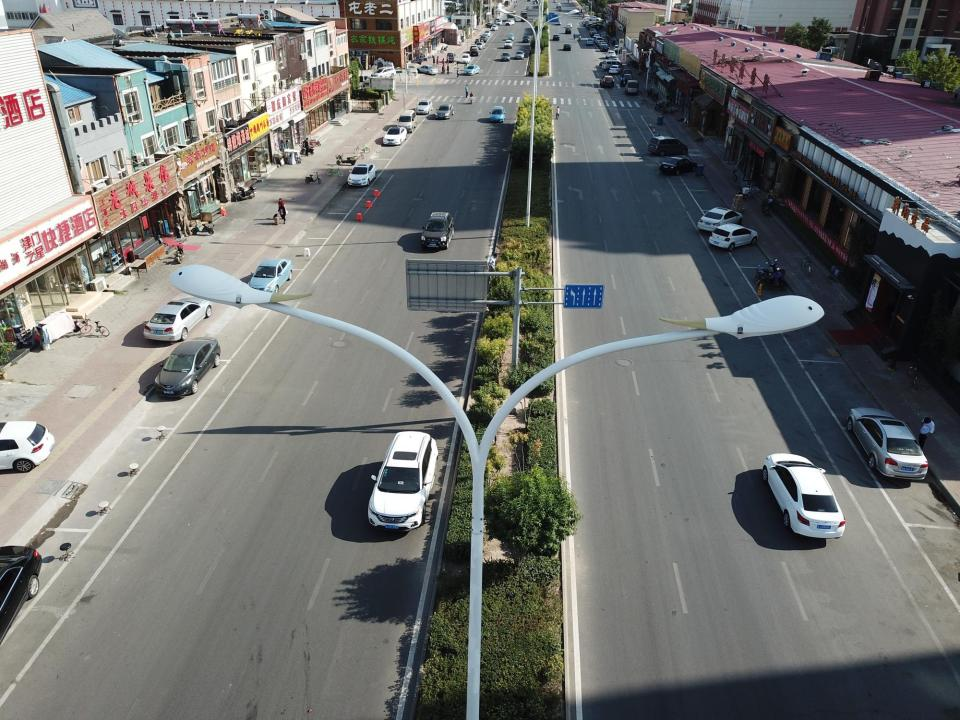bus: (506, 10, 517, 22)
car: (366, 430, 439, 534), (761, 453, 846, 539), (846, 407, 929, 481), (0, 545, 43, 672), (154, 336, 221, 398), (143, 296, 212, 342), (0, 420, 56, 476), (246, 258, 293, 297), (708, 223, 758, 252), (420, 211, 454, 250), (697, 206, 743, 233), (647, 136, 688, 156), (659, 156, 697, 176), (347, 163, 377, 186), (382, 126, 407, 146), (370, 66, 396, 80), (435, 103, 454, 120), (489, 105, 506, 123), (414, 100, 433, 114), (416, 65, 438, 75), (600, 75, 614, 88), (464, 64, 480, 75), (599, 61, 618, 68), (609, 64, 622, 74), (623, 74, 633, 84), (461, 54, 471, 64), (515, 50, 525, 60), (500, 52, 511, 61), (588, 24, 604, 30), (606, 50, 616, 59), (470, 47, 479, 57), (585, 22, 600, 28), (504, 40, 513, 49), (470, 44, 478, 54), (475, 42, 485, 50), (600, 44, 610, 52), (562, 43, 571, 51), (485, 22, 496, 28), (588, 16, 601, 21), (614, 44, 622, 52), (479, 35, 487, 43), (507, 33, 515, 41), (595, 36, 603, 44), (586, 38, 594, 46), (599, 42, 608, 49), (608, 56, 618, 62), (505, 20, 515, 26), (522, 36, 530, 43), (552, 34, 560, 41), (590, 30, 598, 37), (589, 28, 596, 36), (484, 30, 491, 37), (565, 27, 572, 34), (597, 40, 605, 46), (481, 34, 488, 40), (491, 25, 498, 31), (495, 17, 502, 23), (566, 22, 573, 28), (496, 20, 502, 26), (594, 34, 600, 40), (555, 20, 561, 26), (583, 20, 589, 26), (582, 18, 588, 24), (584, 22, 590, 27), (532, 0, 537, 4), (526, 5, 530, 10), (552, 0, 556, 2)
truck: (360, 76, 396, 95), (520, 9, 530, 22)
van: (397, 109, 417, 133), (601, 60, 622, 71), (625, 80, 638, 95), (621, 69, 632, 80), (446, 52, 456, 64), (556, 3, 561, 9), (558, 5, 562, 10)
